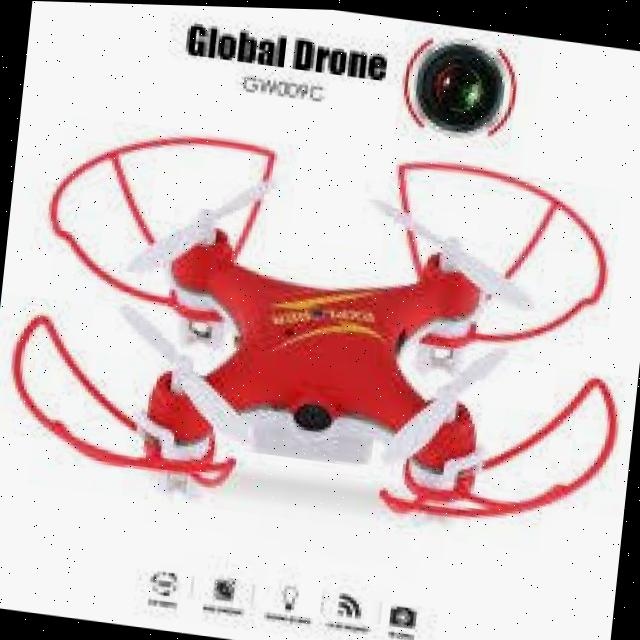drone: (0, 93, 640, 549)
